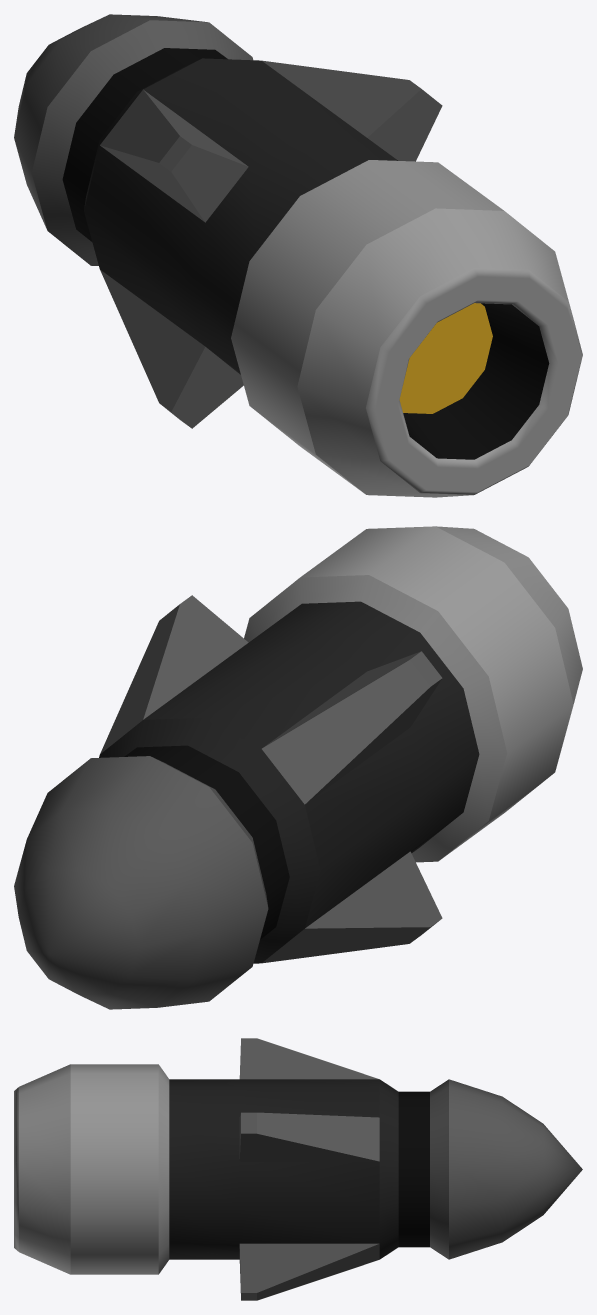
File: Missile_Guided.FBX
3 views of the same model, one above another, from view 1: azimuth 30°, elevation 25°; view 2: azimuth 150°, elevation 25°; view 3: azimuth 270°, elevation 25° (orthographic). The views are drawn at different scales.
Parts seen in each view (by area): view 1: Bazooka_Guided; view 2: Bazooka_Guided; view 3: Bazooka_Guided.
Part boxes in pixels (x1,y1,x2,y2): Bazooka_Guided: (14, 14, 582, 497); Bazooka_Guided: (14, 526, 582, 1009); Bazooka_Guided: (14, 1038, 582, 1300).
Bounding box in the file's own units: 14.4 × 14.4 × 38.77.
